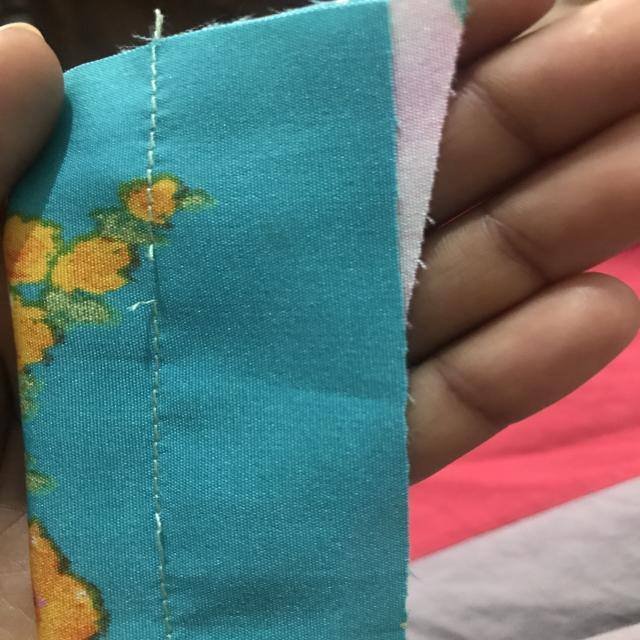broken: (121, 224, 182, 330)
skip: (144, 504, 189, 574)
